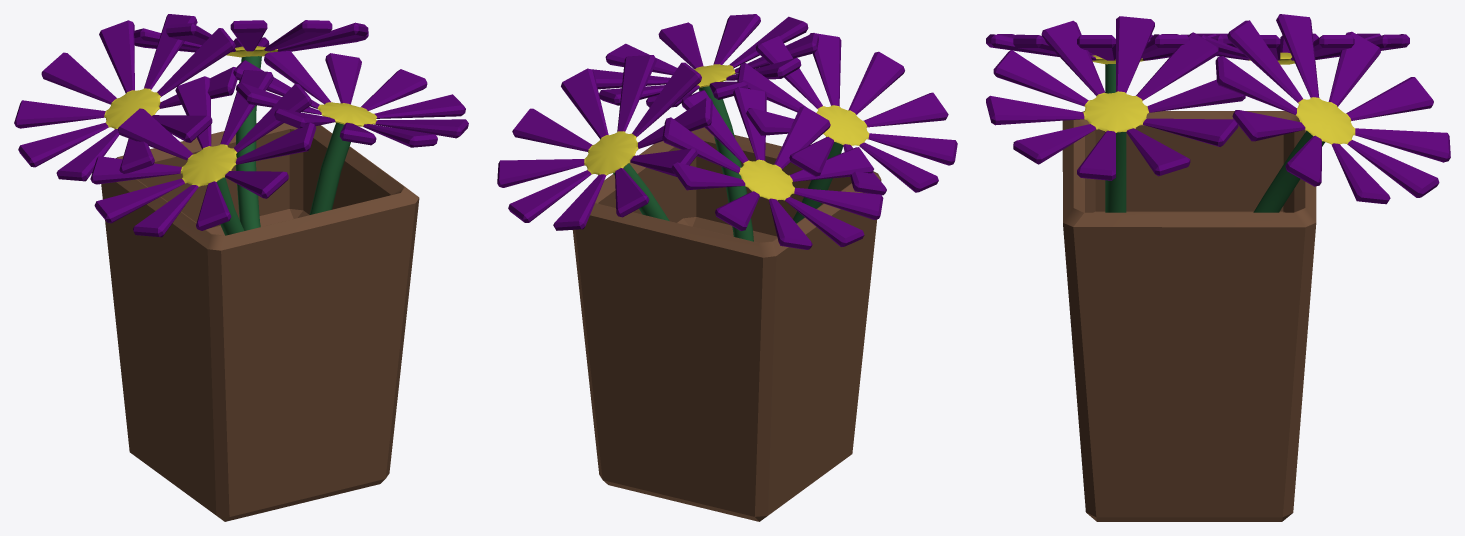
Rendered from plant 5 purple flowers.fbx.
3 renders of one model, left to right at view 1: azimuth 30°, elevation 25°; view 2: azimuth 150°, elevation 25°; view 3: azimuth 270°, elevation 25°, orthographic. The views are drawn at different scales.
Visible parts, largest first — view 1: group41_pCylinder48; view 2: group41_pCylinder48; view 3: group41_pCylinder48.
Part boxes in pixels (<box>): group41_pCylinder48: <box>14,14,468,521</box>; group41_pCylinder48: <box>497,14,957,521</box>; group41_pCylinder48: <box>986,14,1450,521</box>.
Bounding box in the file's own units: 19.39 × 23.05 × 20.97.
